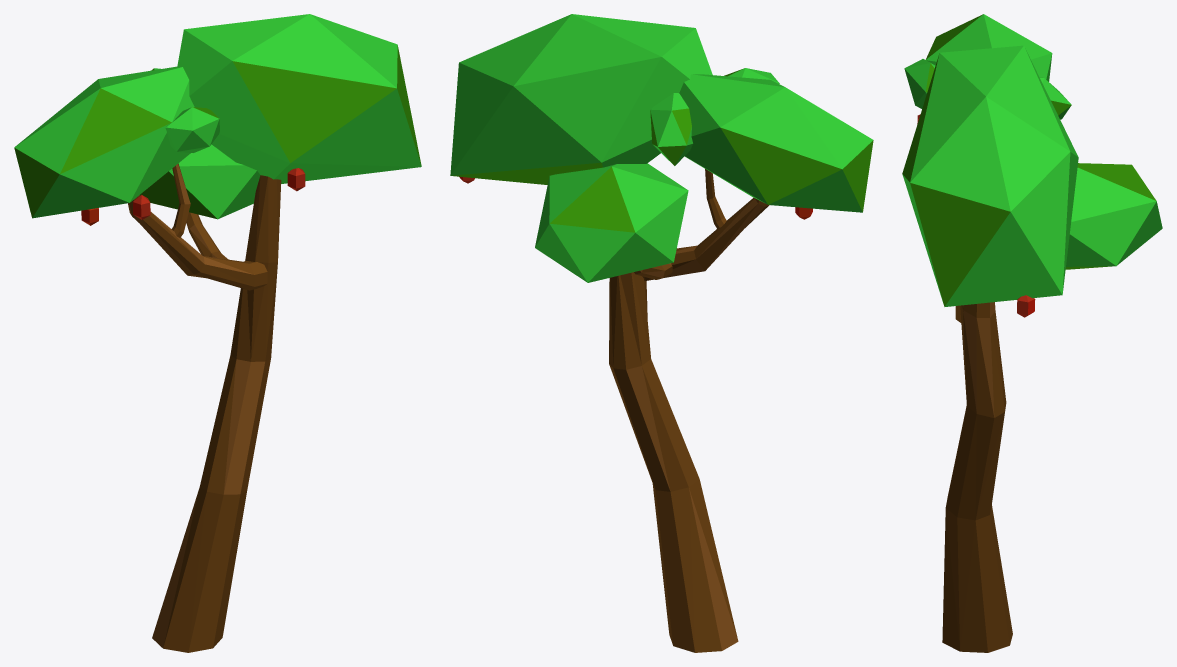
Rendered from LowPolyTree01-Level01fixed.fbx.
The picture shows the model from 3 angles, left to right: view 1: azimuth 30°, elevation 25°; view 2: azimuth 150°, elevation 25°; view 3: azimuth 270°, elevation 25°; orthographic projection. The views are drawn at different scales.
Visible parts, largest first — view 1: Icosphere, Cylinder; view 2: Icosphere; view 3: Icosphere.
Part boxes in pixels (box(x1,y1,x2,y2)): Icosphere: box(14, 14, 421, 652); Cylinder: box(186, 212, 228, 259); Icosphere: box(450, 14, 873, 652); Icosphere: box(902, 14, 1162, 652).
Size of the model in its own units: 411 by 605 by 236.
